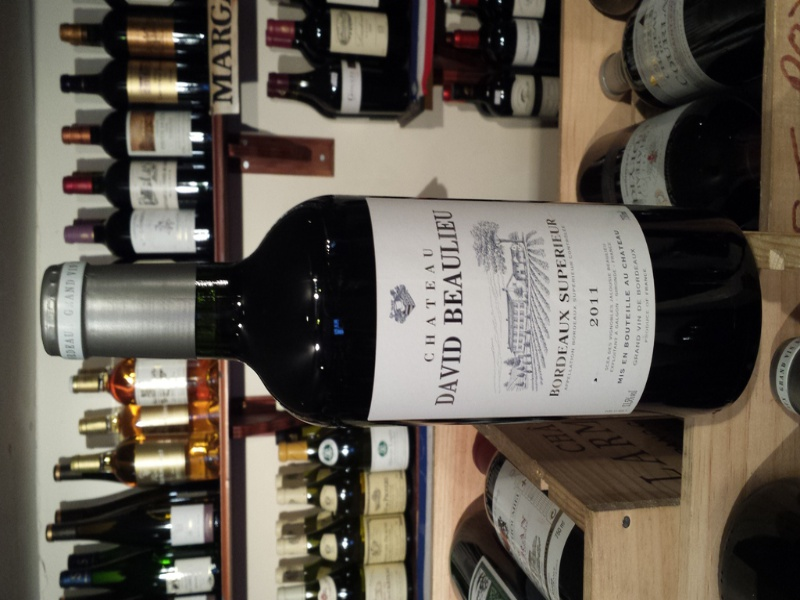wine: (45, 3, 796, 600), (31, 189, 762, 429)
